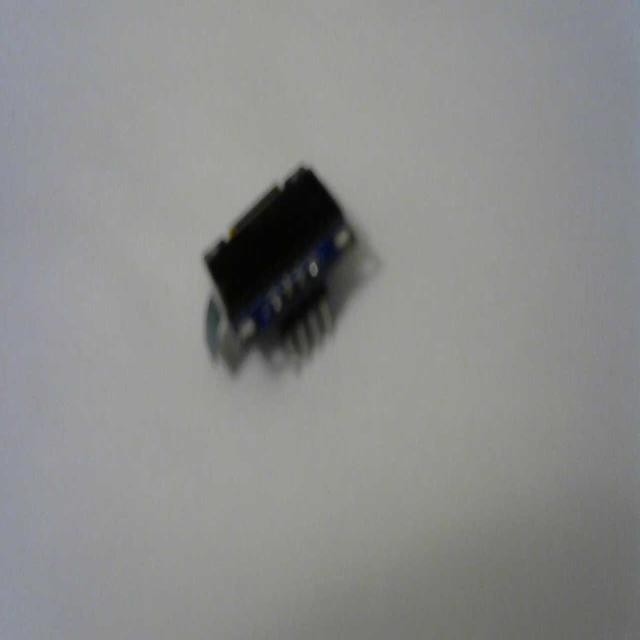oled: (201, 150, 363, 388)
